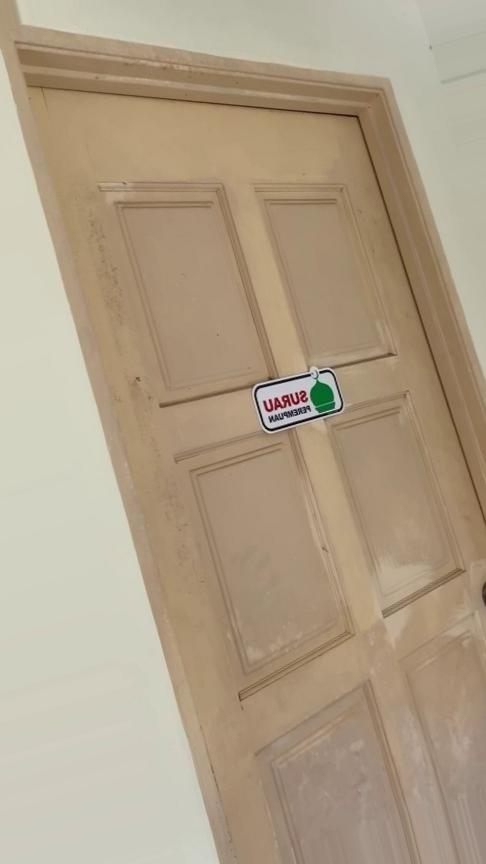door: (2, 30, 486, 864)
